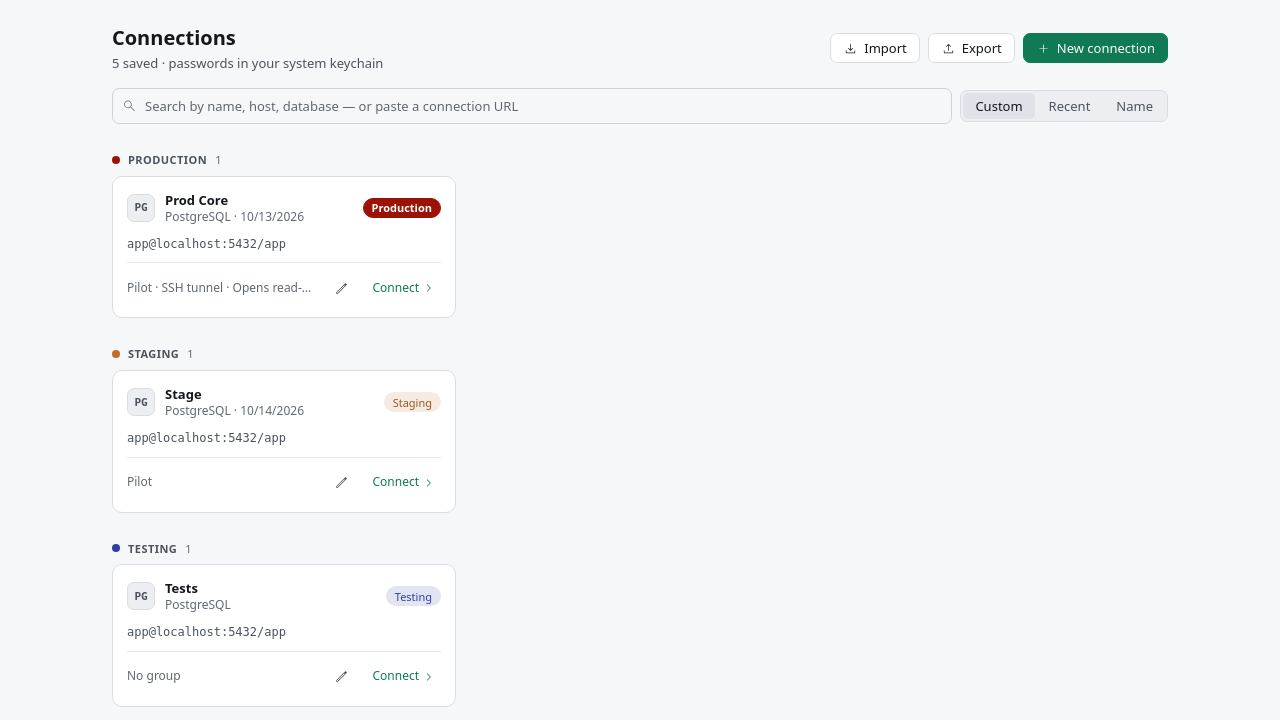
Test case: Home › searches forgivingly: typos and word order
In the field named "Search connections": (532, 106) [112,88,952,124], type "core prod"
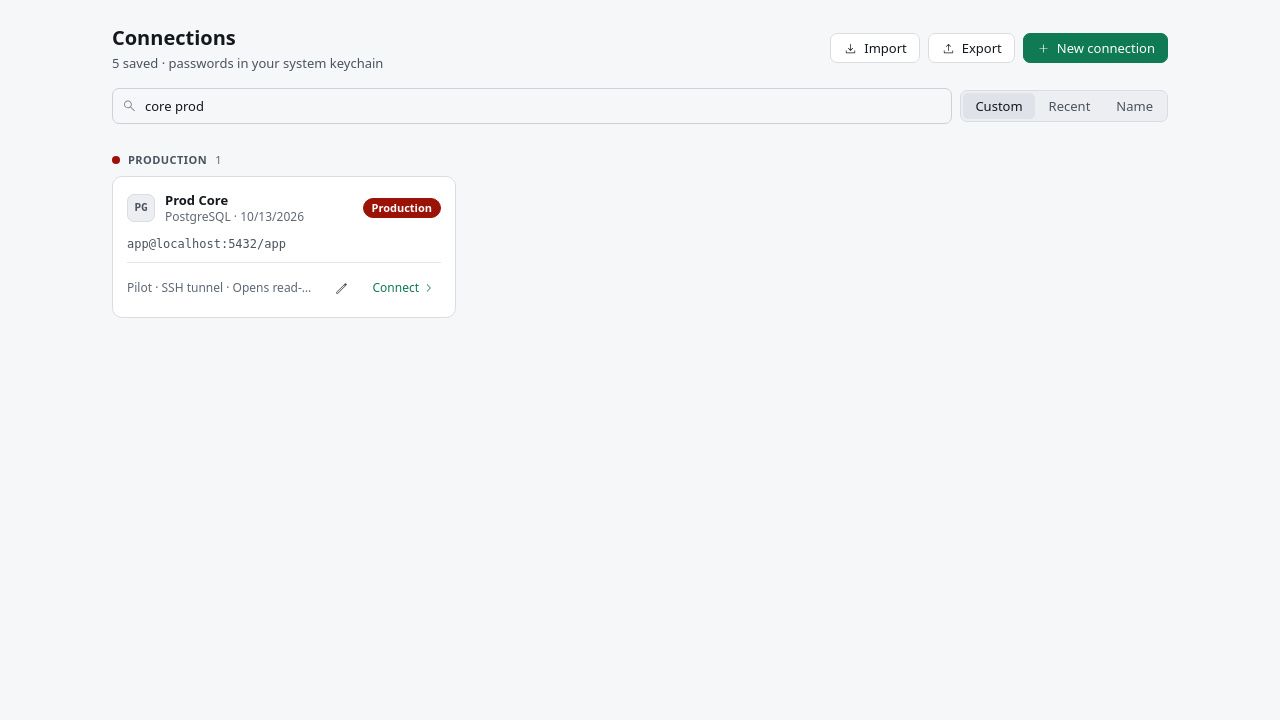
Expected: the text "Prod Core" is shown, [165,191,228,209]
Now the text "Stage" is gone
Replace the text in the field named "Search connections" with "prdo core": (532, 106) [112,88,952,124]
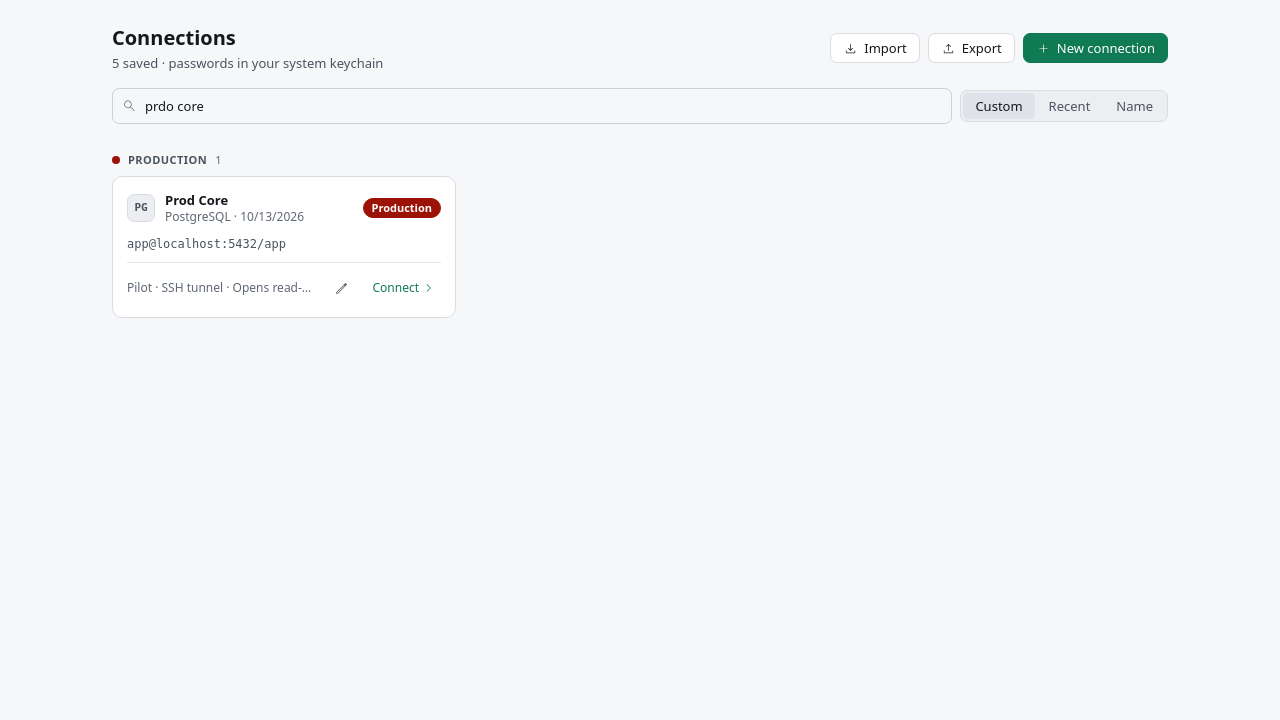
Expected: the text "Prod Core" is shown, [165,191,228,209]
Expected: the text "Stage" is not shown
Replace the text in the field named "Search connections" with "Prod_Core": (532, 106) [112,88,952,124]
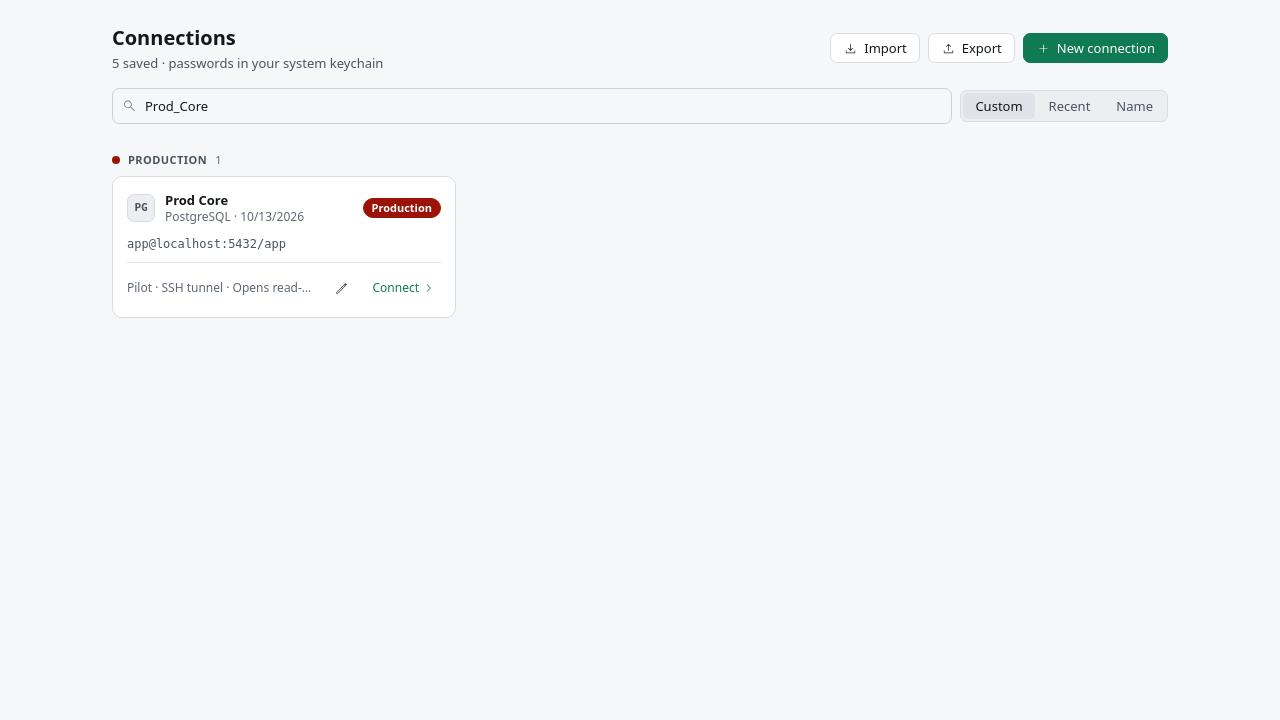
Expected: the text "Prod Core" is shown, [165,191,228,209]
Expected: the text "Stage" is not shown
Replace the text in the field named "Search connections" with "zzzz": (532, 106) [112,88,952,124]
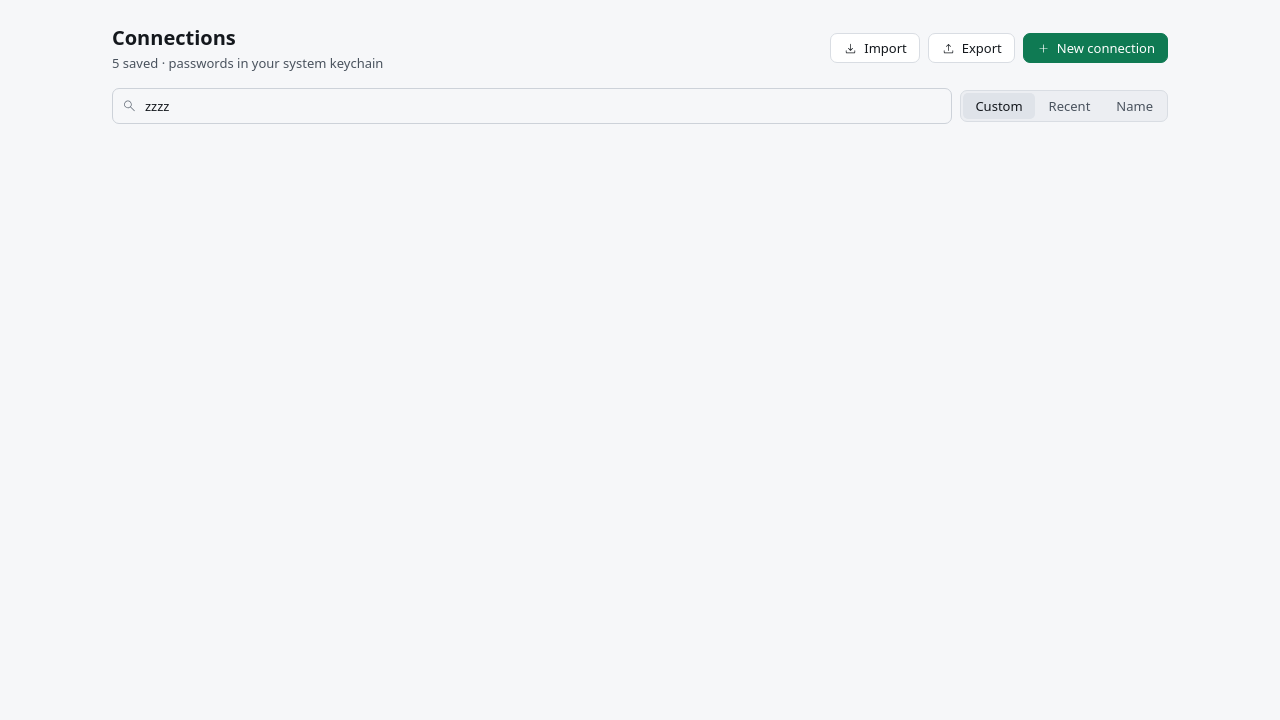
Now the text "Prod Core" is gone
